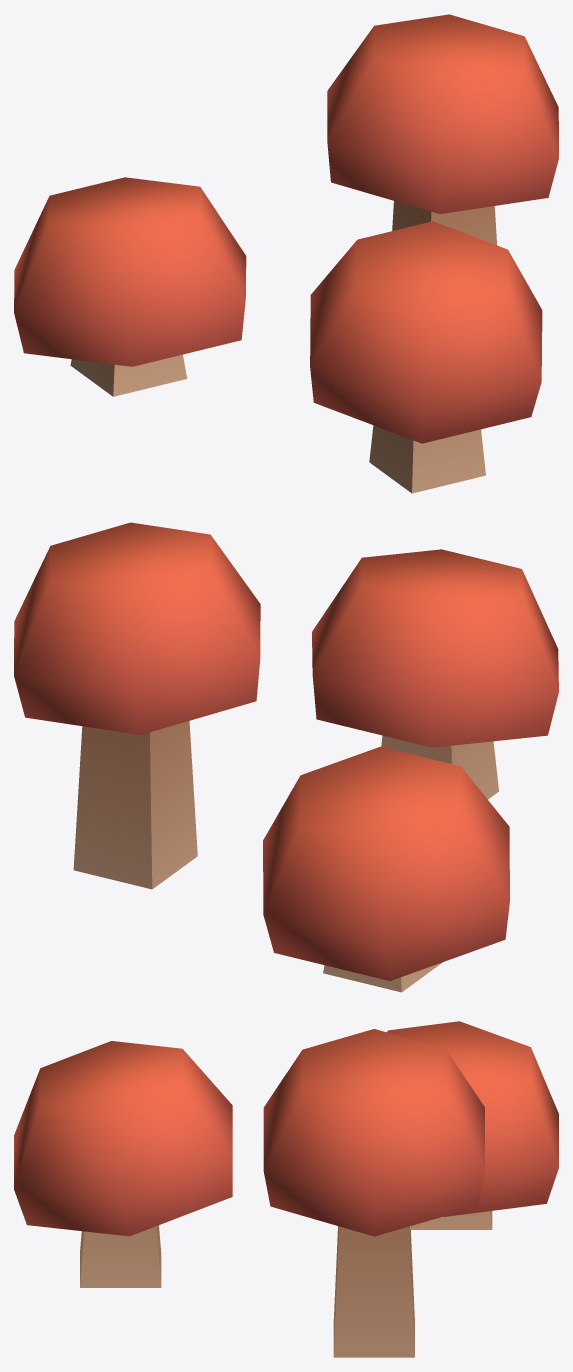
The model's file is mushrooms.glb.
3 views of the same model, one above another, from view 1: azimuth 30°, elevation 25°; view 2: azimuth 150°, elevation 25°; view 3: azimuth 270°, elevation 25° (orthographic). The views are drawn at different scales.
Visible parts, largest first — view 1: mushrooms; view 2: mushrooms; view 3: mushrooms.
Boxes of the visible parts, x1=… form: mushrooms: x1=14, y1=14, x2=558, y2=493; mushrooms: x1=14, y1=522, x2=558, y2=992; mushrooms: x1=14, y1=1021, x2=558, y2=1357.
Bounding box in the file's own units: 0.7223 × 0.4 × 0.708.
Materials: 1 (1 with a texture image).
